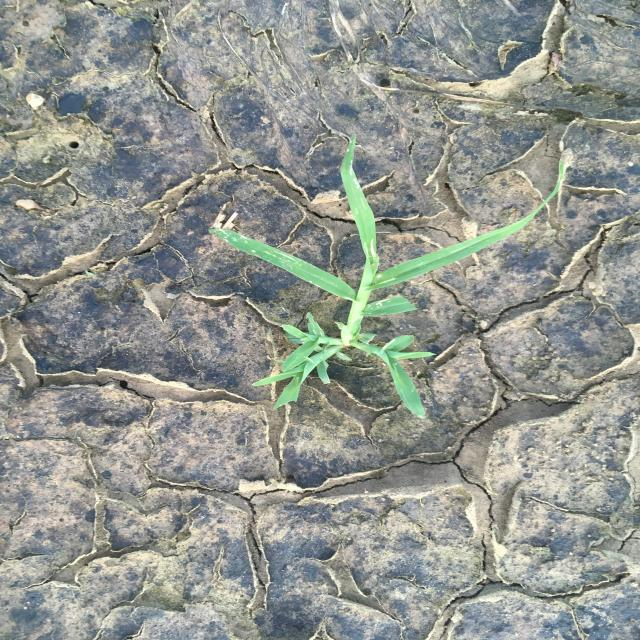Goosegrass: (207, 130, 567, 422)
